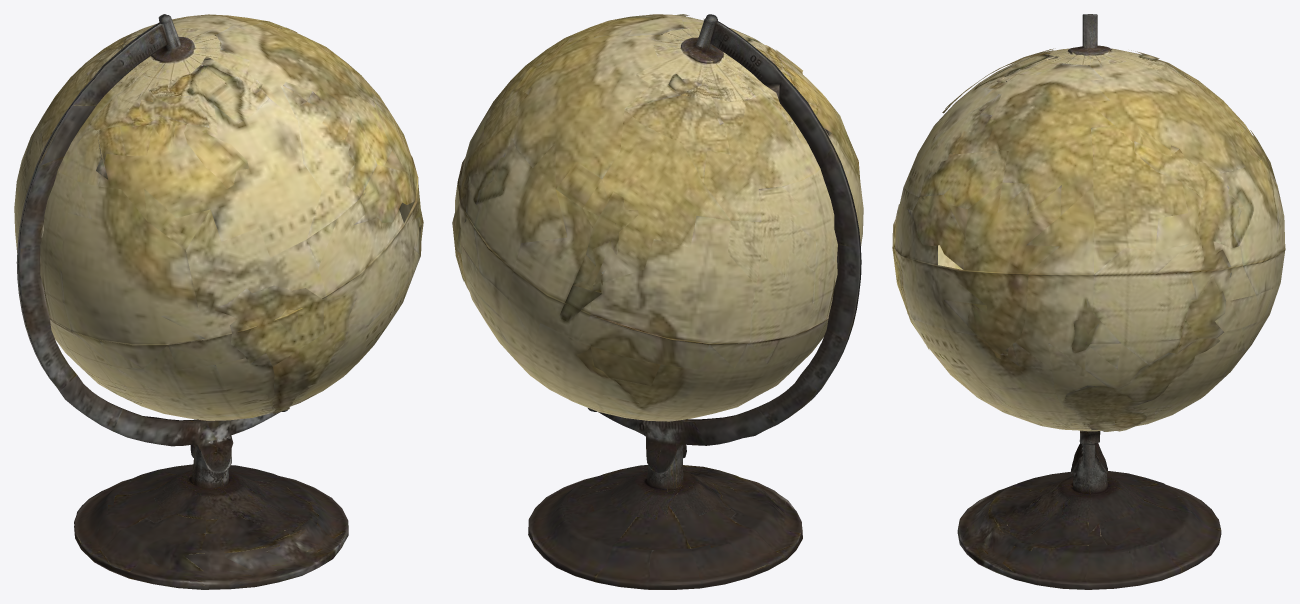
Rendered from prop_globe.glb.
The picture shows the model from 3 angles, left to right: view 1: azimuth 30°, elevation 25°; view 2: azimuth 150°, elevation 25°; view 3: azimuth 270°, elevation 25°; orthographic projection. The views are drawn at different scales.
Size of the model in its own units: 0.7119 by 0.9512 by 0.6763.
1 material, 1 textured.
